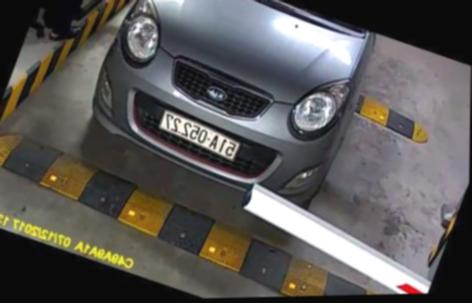License_Plate: (155, 111, 241, 168)
